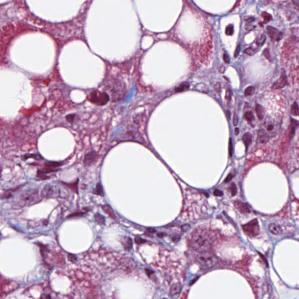inflammation: (226, 86, 267, 130), (84, 88, 113, 107)
